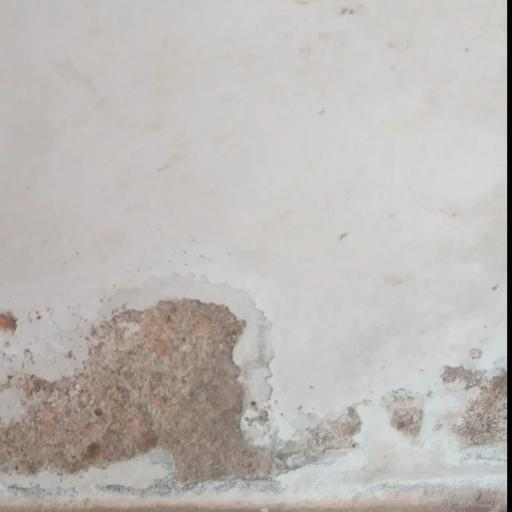peeling: (0, 249, 512, 512)
